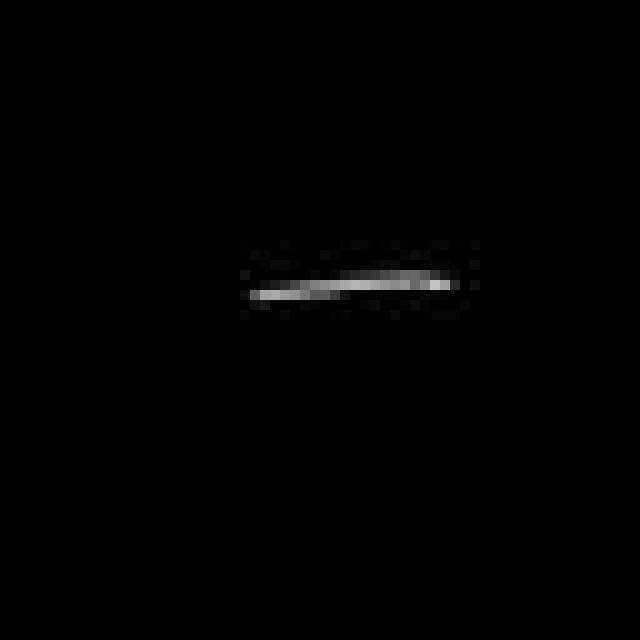1 -one-: (241, 263, 468, 319)
